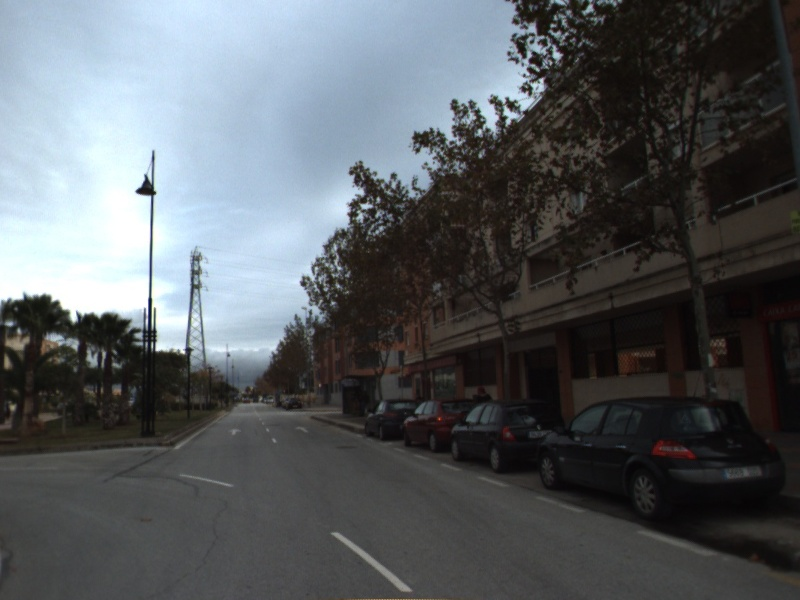STRAIGHT: (294, 424, 311, 435), (227, 426, 243, 437)
